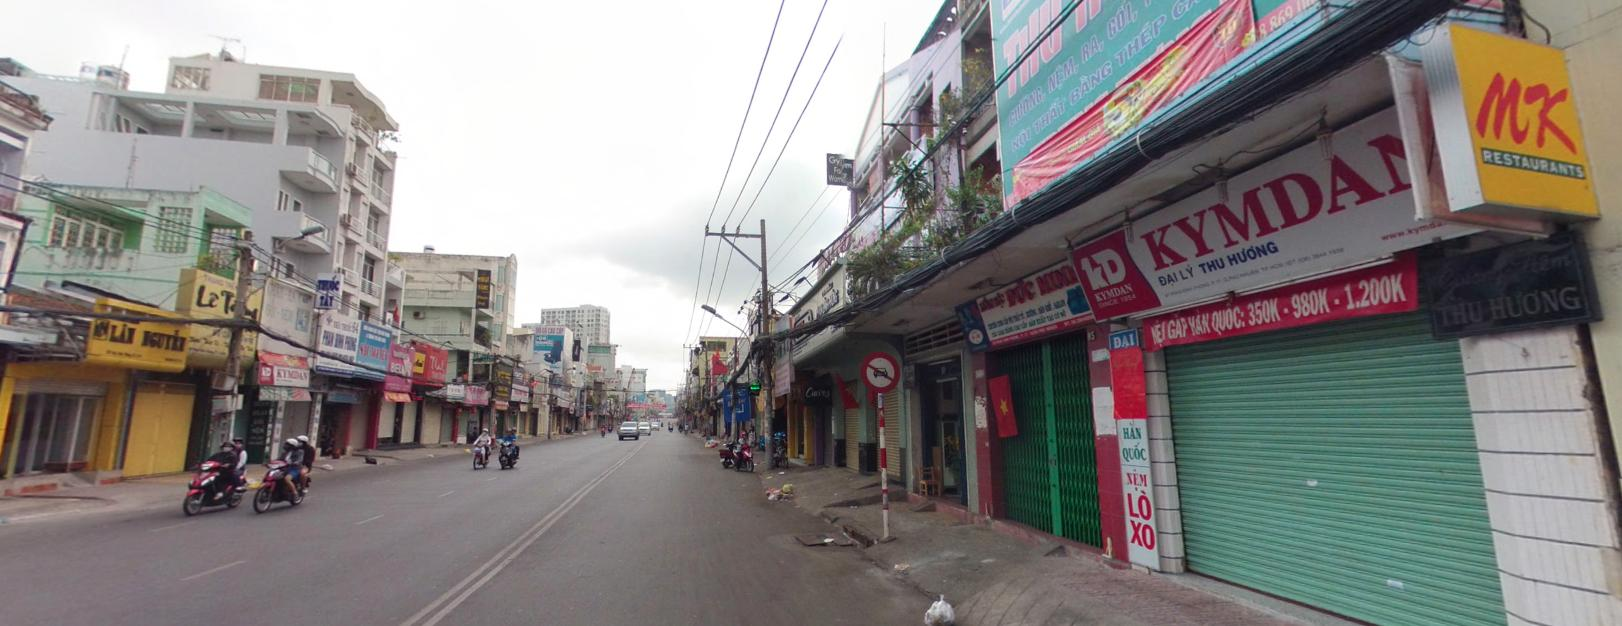Cam con lai: (861, 350, 900, 391)
